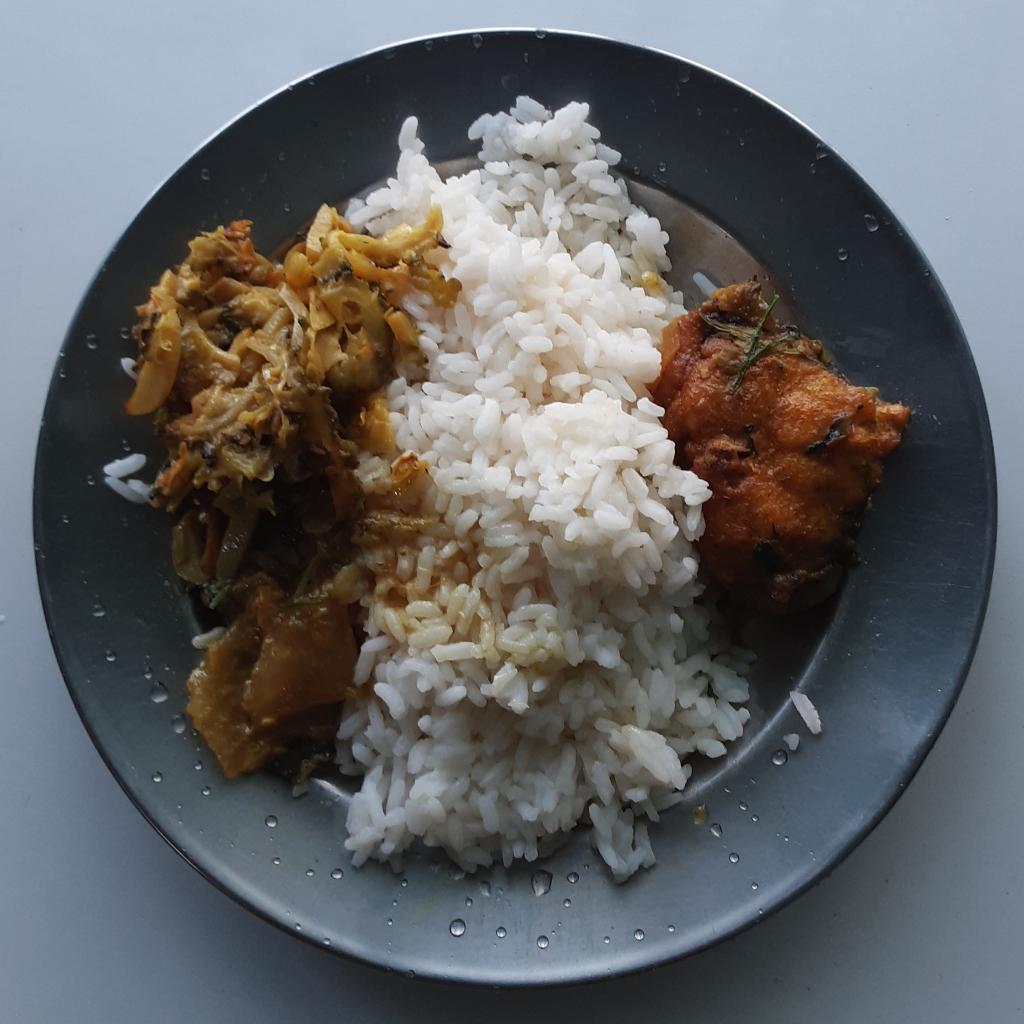dundol: (185, 568, 360, 788)
fish: (659, 279, 911, 621)
korola-vaji: (126, 202, 463, 615)
rice: (337, 90, 756, 886)
